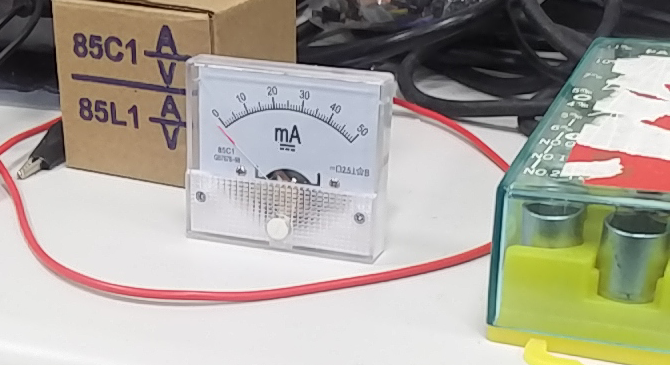MilliAmp_Meter: (190, 61, 384, 207)
